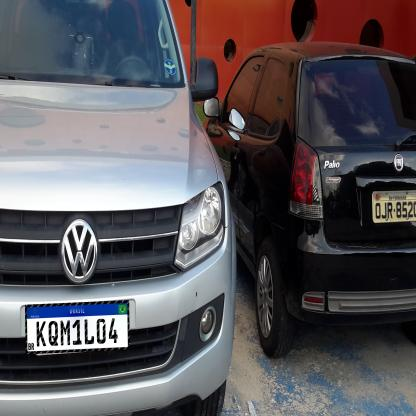PlacaM: (25, 300, 130, 354)
